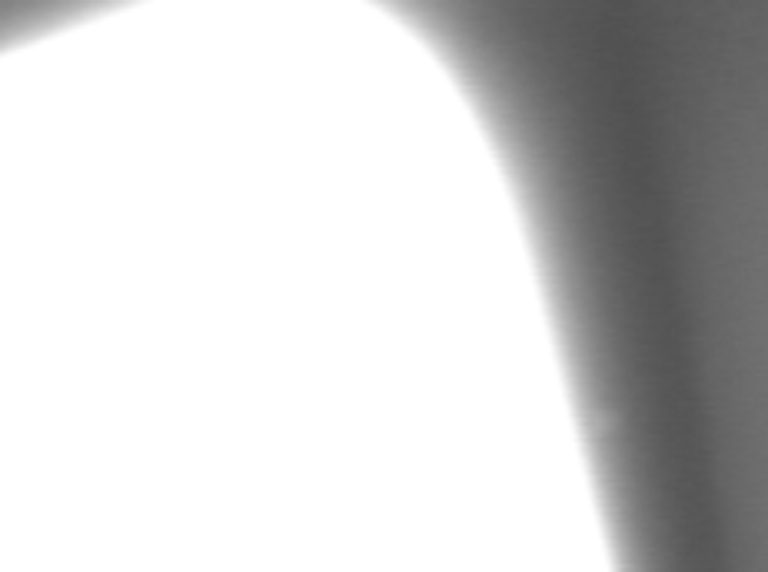defect: (595, 410, 632, 446)
